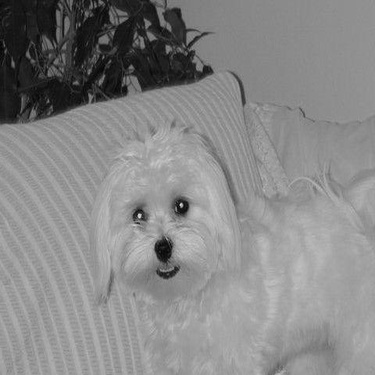dog: (85, 112, 374, 373)
